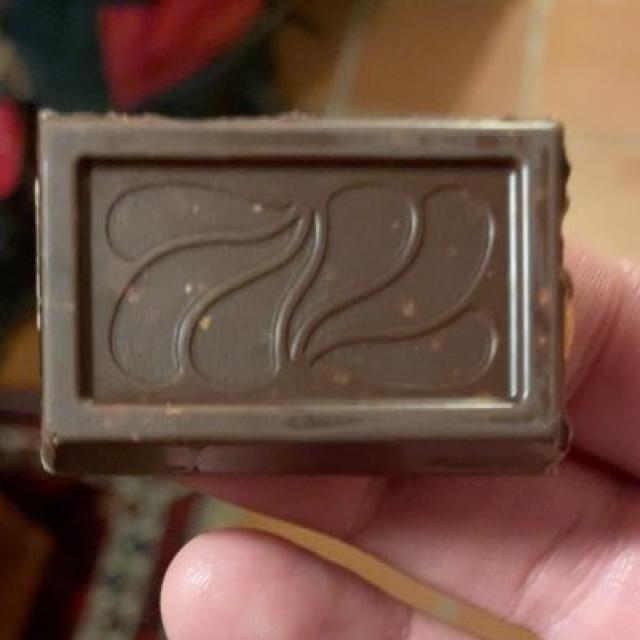chocolate: (44, 115, 570, 469)
